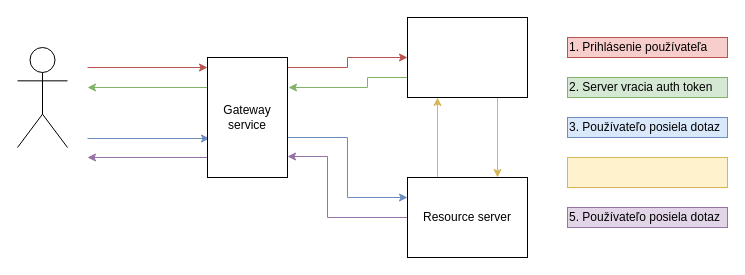
This 745x275 diagram has some shape labels left out. The centre of each missing label's shape, as x and y in pixels:
"4. Resource server získava info o používateľovi" belongs at point (647, 172).
"Actor" belongs at point (42, 97).
"Auth service" belongs at point (467, 57).
